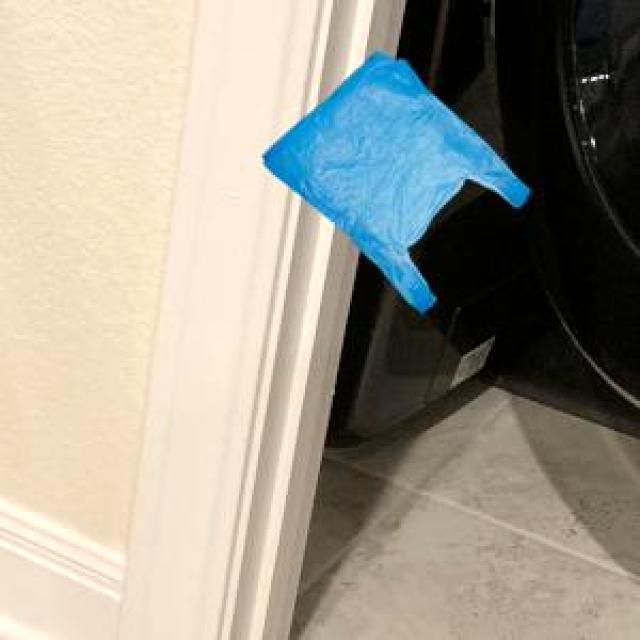Plastic_Bag: (259, 48, 528, 308)
